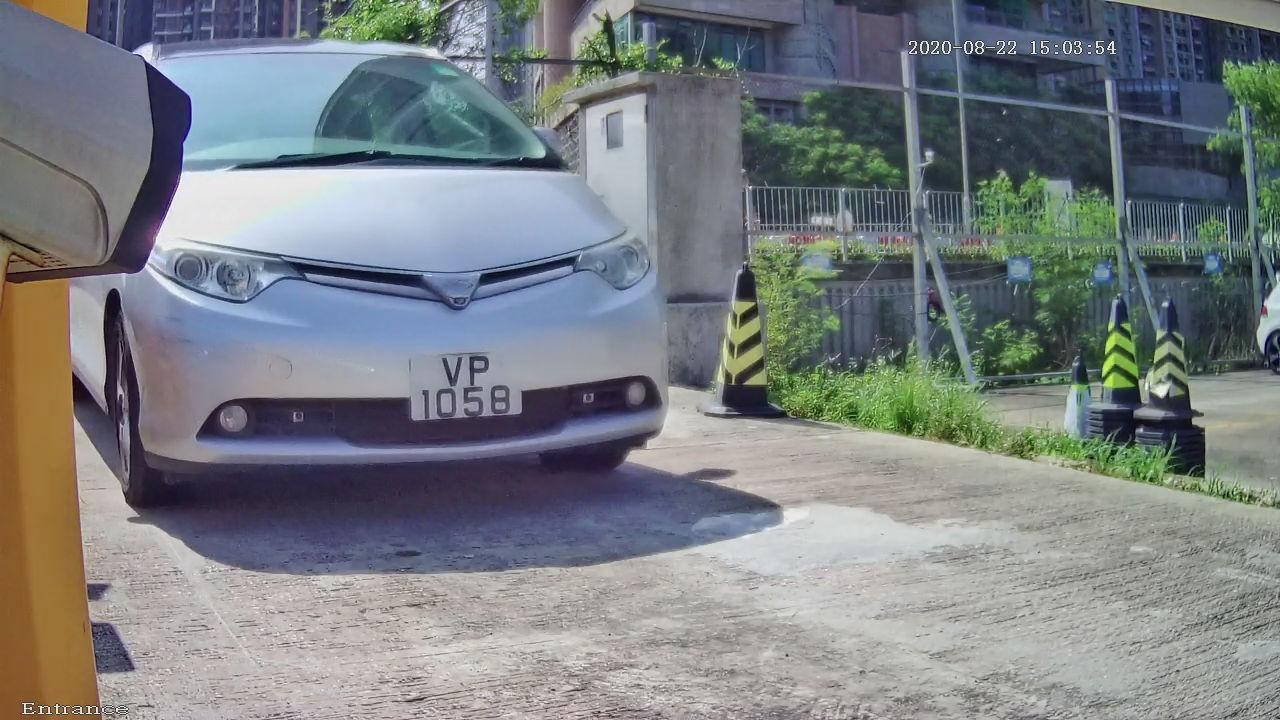License Plate: (401, 341, 526, 431)
